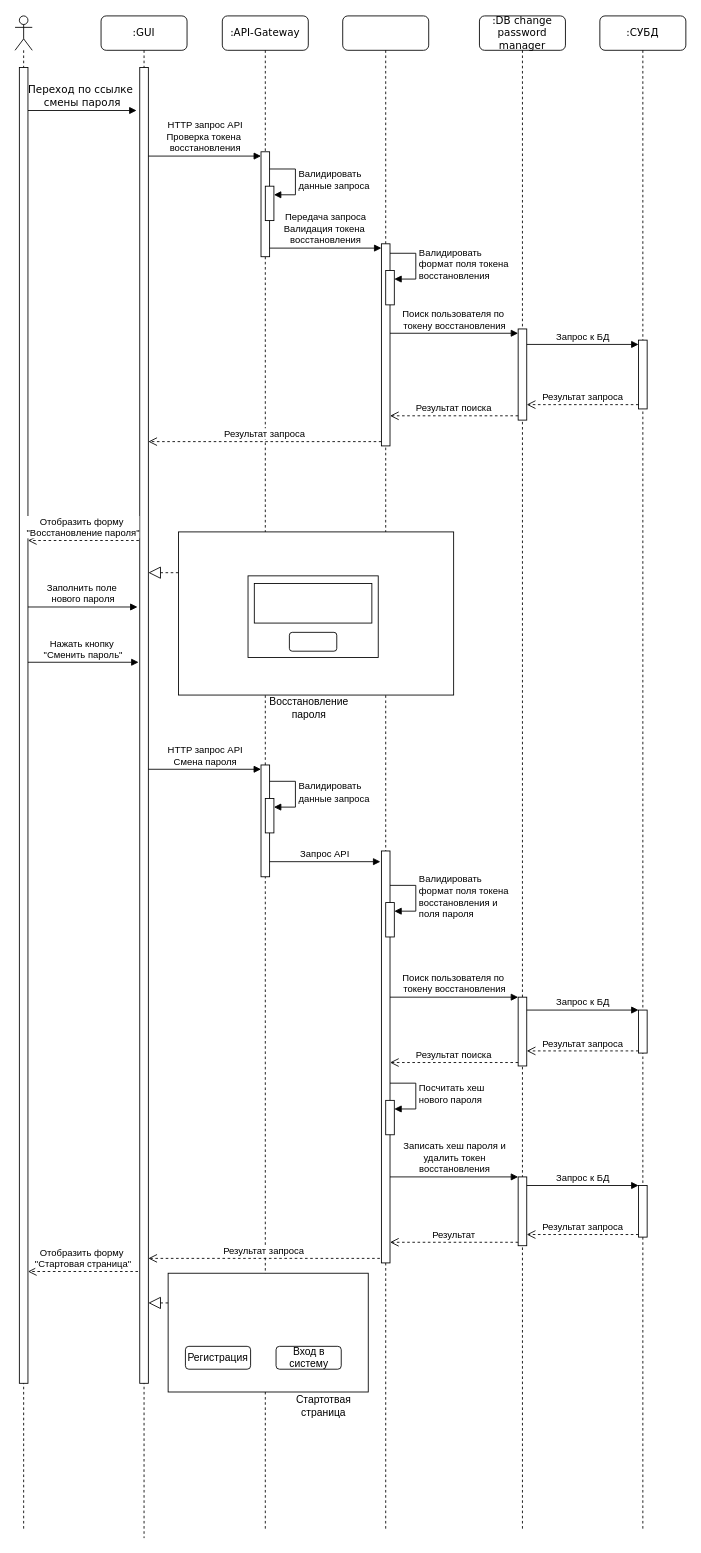
Some shapes in this 701 by 1553 pixel diagram are drawn without their labels. Here are the shapes that lost their labels. From the top down, the box of each, then its label:
(253, 583, 372, 623): Поле для ввода нового пароля
(289, 631, 337, 651): Сменить пароль
(342, 15, 429, 1530): :Change-password-Handler
